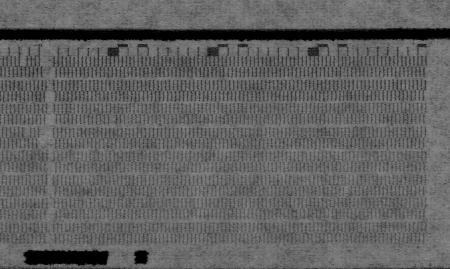Broken hole: (36, 126, 50, 149), (38, 55, 49, 79), (17, 54, 30, 69), (20, 126, 33, 139)
